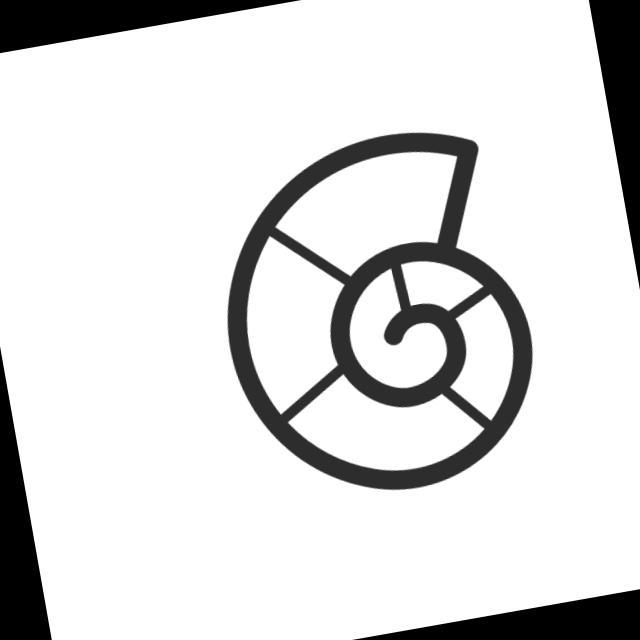fossil: (193, 110, 562, 523)
